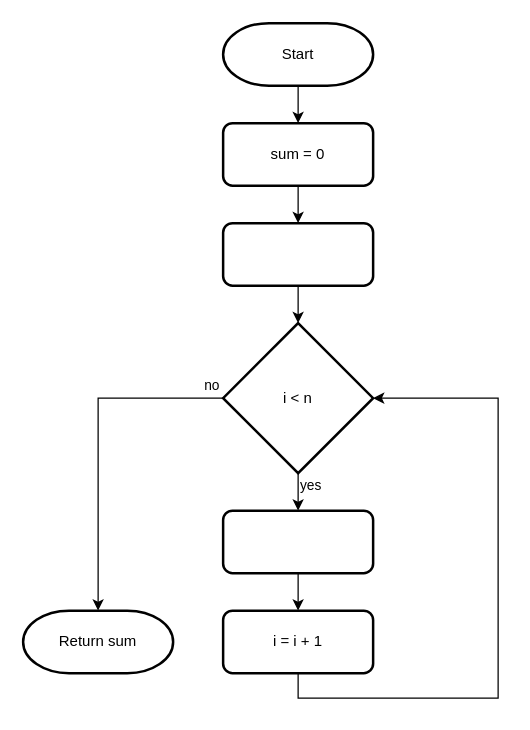
Some shapes in this 530 by 730 pixel diagram are drawn without their labels. The shapes that lost their labels are listed below. From the top down, each one's centre as x and y in pixels, then its label:
At point 297,253: "i = 0".
At point 297,541: "sum = sum + a + i".
